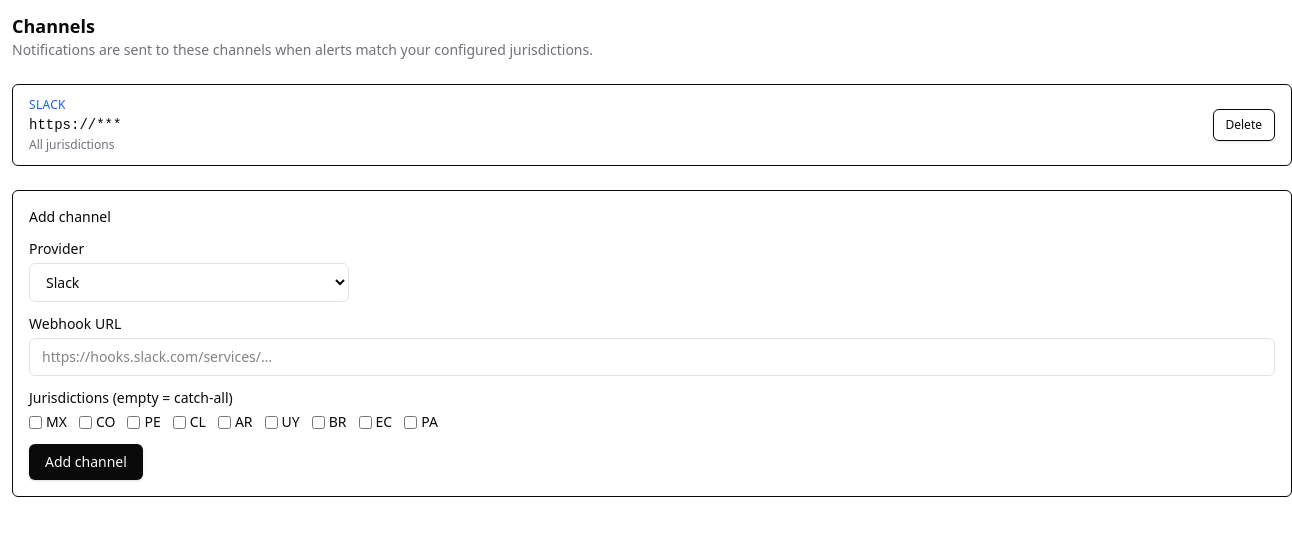
Scenario: <NotificationChannelsSection> › delete channel › restores channel and shows error message when DELETE fails
Click the button "Delete" at {"x": 1244, "y": 125}, box [1212, 109, 1275, 141]
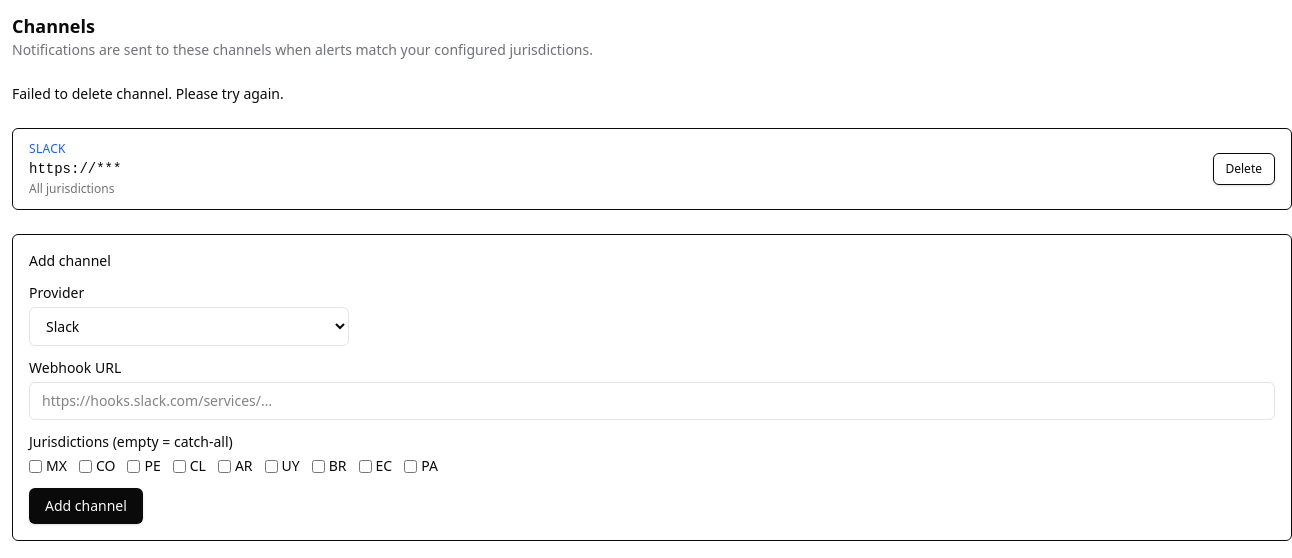
expect the message "Failed to delete channel. Please try again." is shown: met, box [12, 84, 284, 103]
